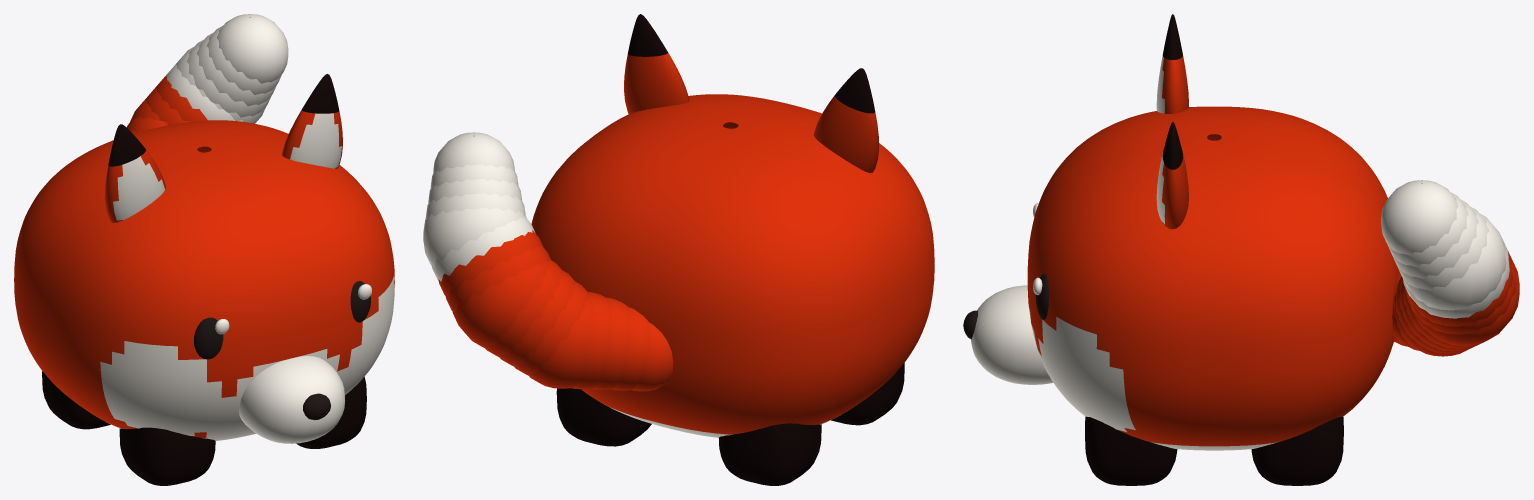
The model's file is fox.fbx.
3 renders of one model, left to right at view 1: azimuth 30°, elevation 25°; view 2: azimuth 150°, elevation 25°; view 3: azimuth 270°, elevation 25°, orthographic. The views are drawn at different scales.
Visible parts, largest first — view 1: fox; view 2: fox; view 3: fox.
Boxes of the visible parts, x1,y1,x2,y2 form: fox: (14, 14, 394, 485); fox: (423, 14, 934, 485); fox: (963, 14, 1519, 485).
Bounding box in the file's own units: 4 × 3.94 × 5.36.
